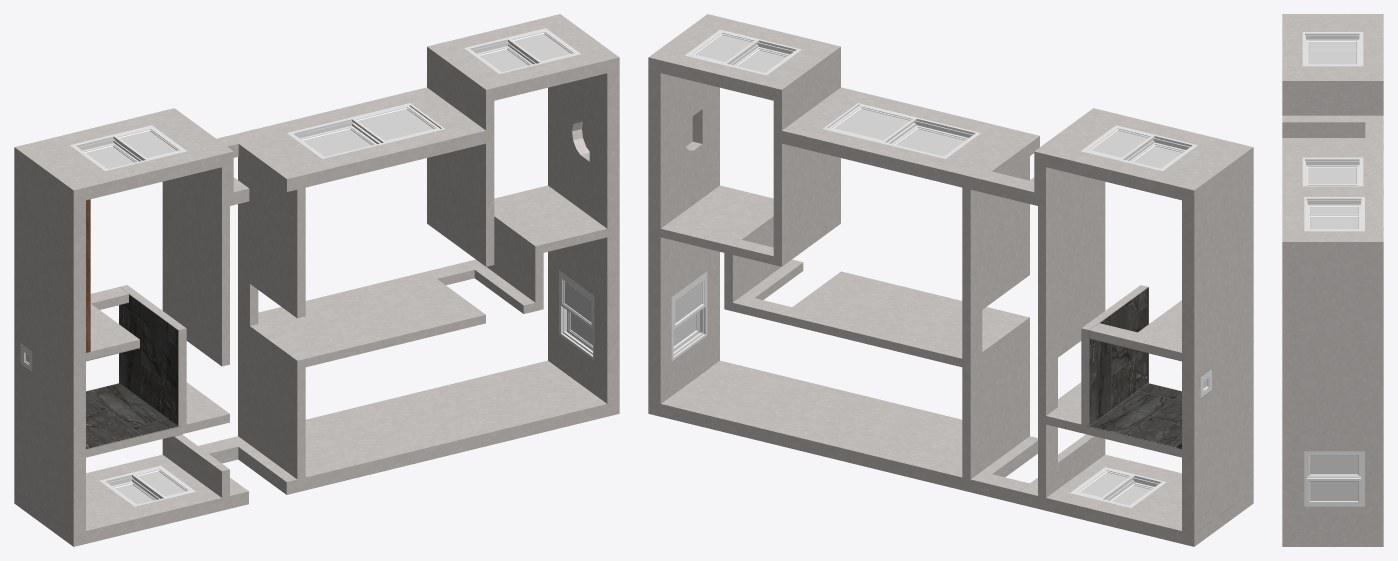
Rendered from Wall.fbx.
3 renders of one model, left to right at view 1: azimuth 30°, elevation 25°; view 2: azimuth 150°, elevation 25°; view 3: azimuth 270°, elevation 25°, orthographic. The views are drawn at different scales.
Parts seen in each view (by area): view 1: Cube.044; view 2: Cube.044; view 3: Cube.044.
Part boxes in pixels (x1,y1,x2,y2): Cube.044: (14, 14, 619, 546); Cube.044: (648, 14, 1253, 546); Cube.044: (1282, 14, 1383, 546).
Bounding box in the file's own units: 1330 × 830 × 250.
Materials: 2 (1 with a texture image).
